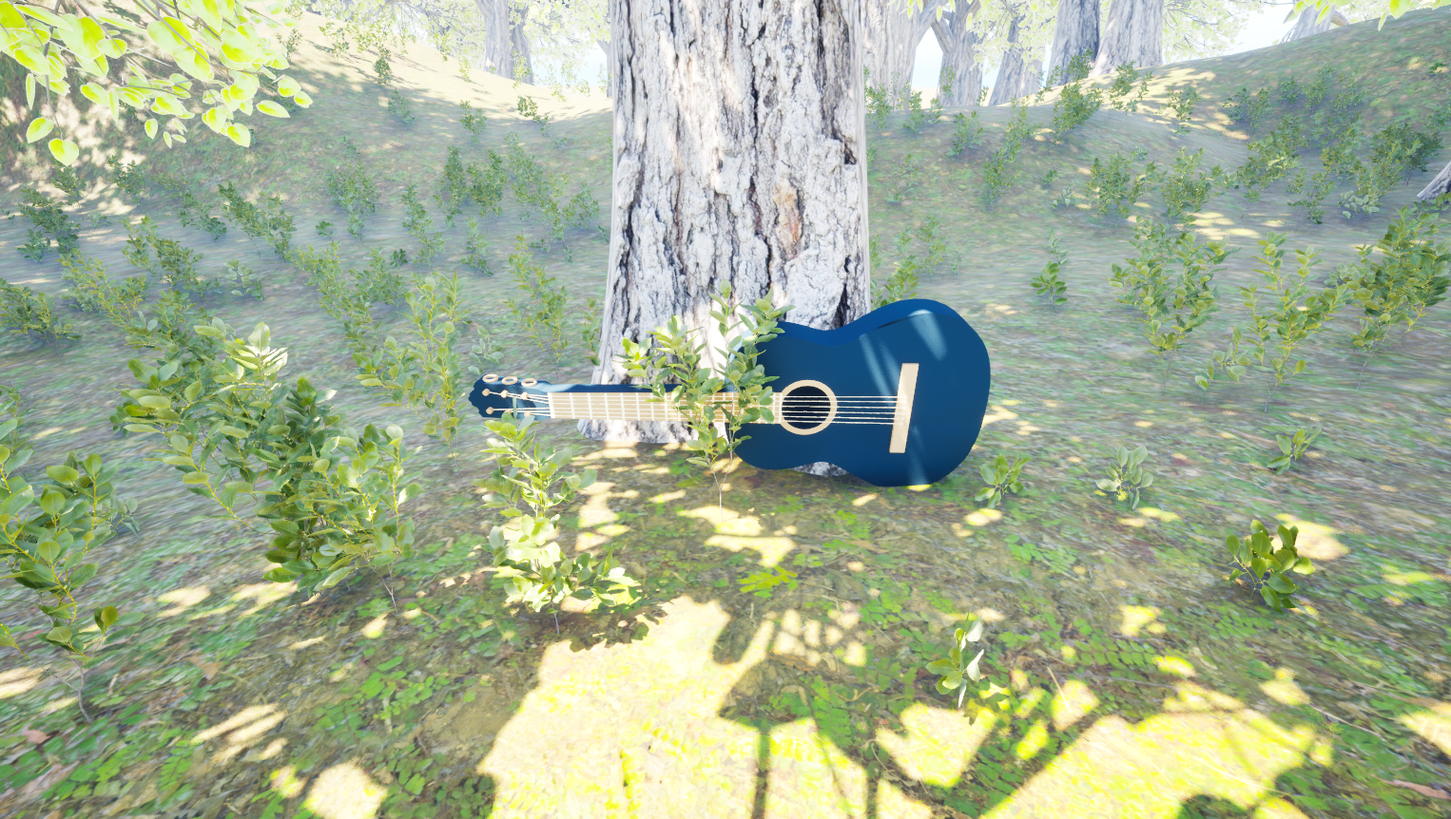Guitar: (426, 243, 1016, 672)
